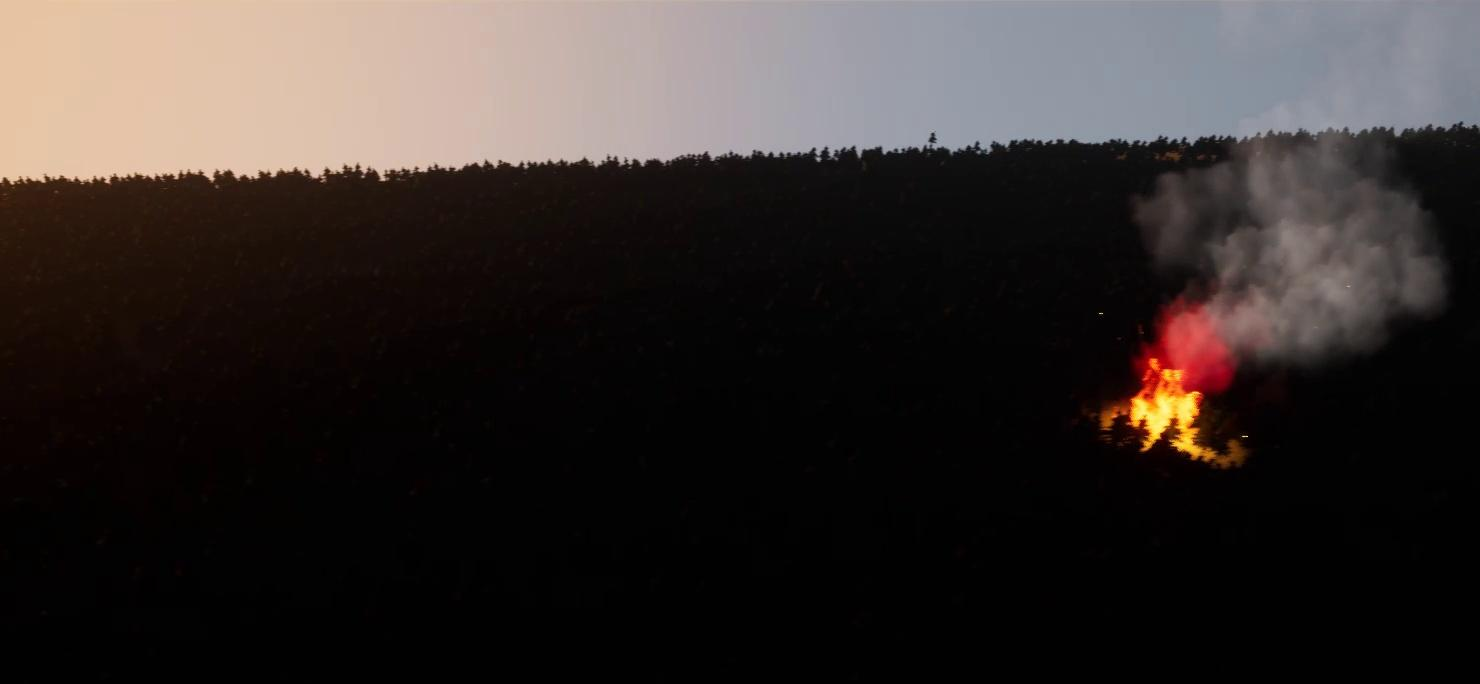fire: (1098, 360, 1233, 475)
smoke: (1151, 124, 1454, 393)
